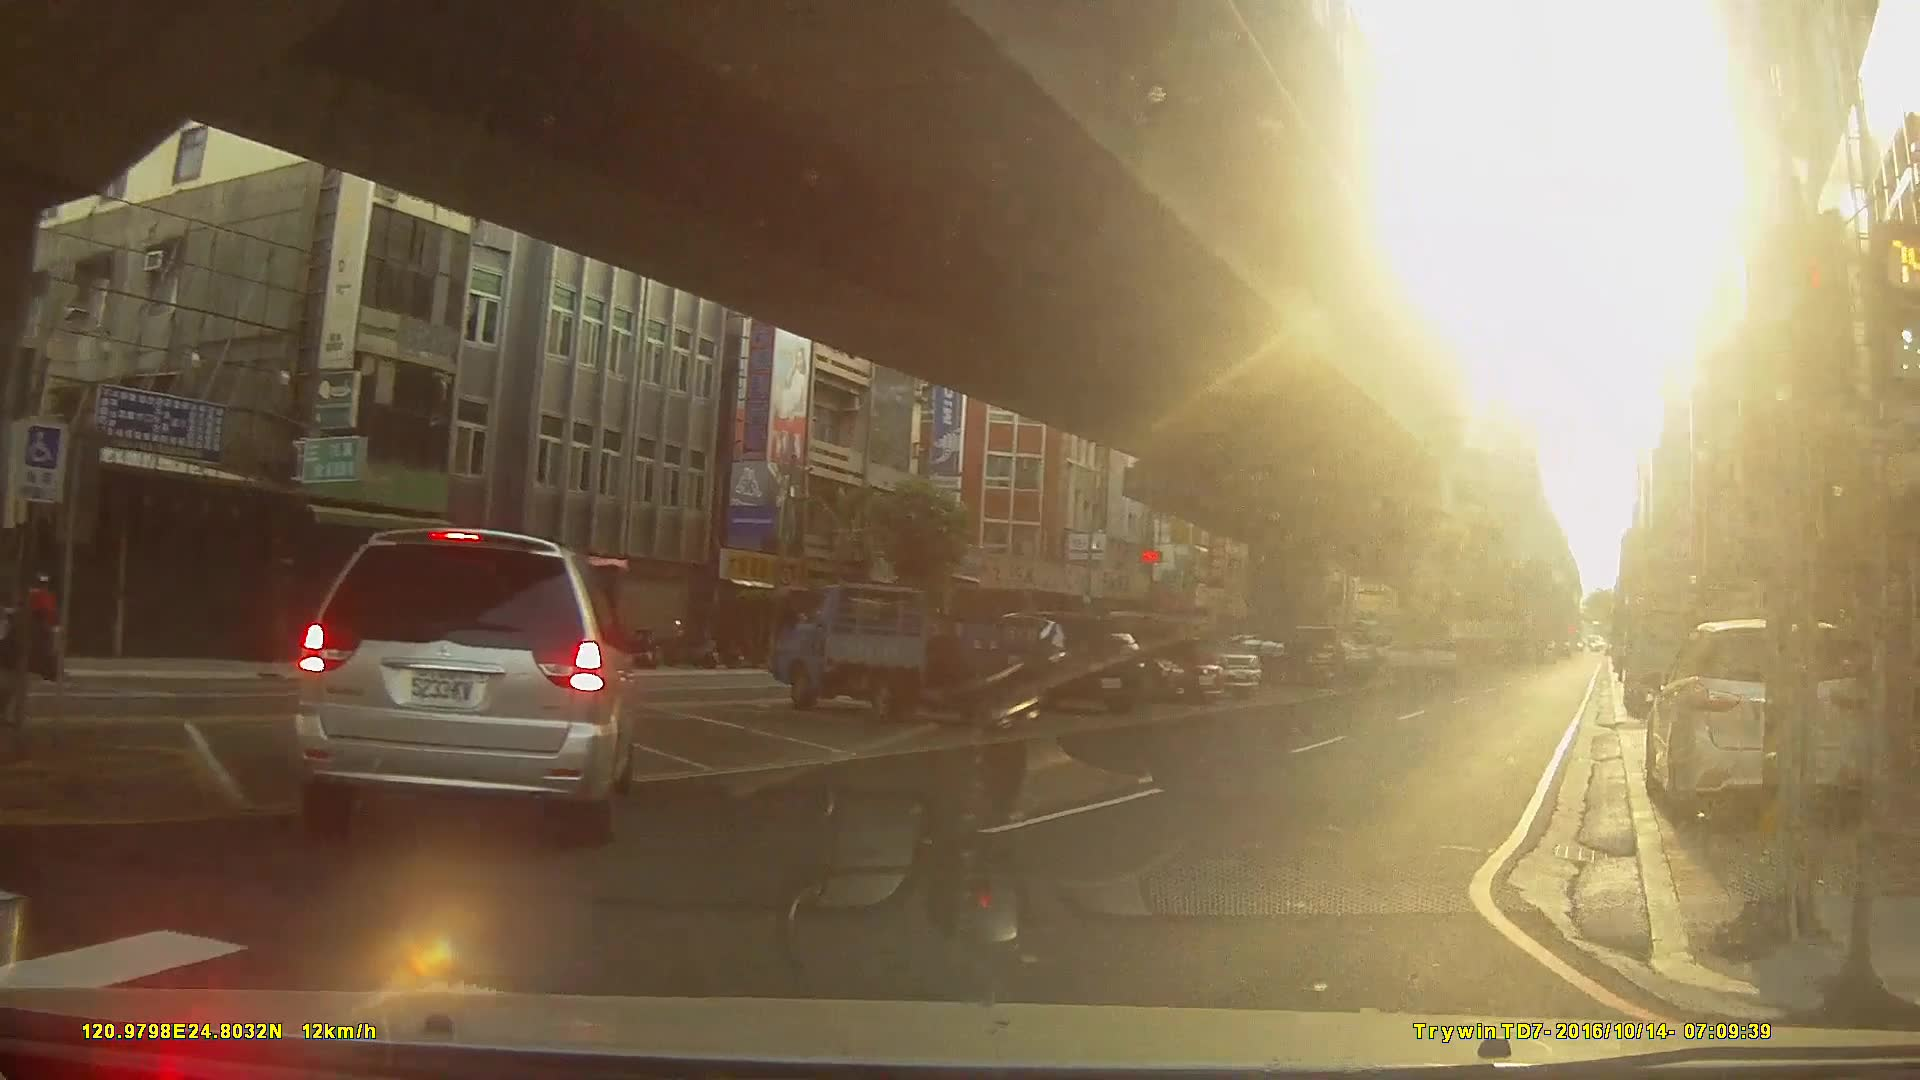rider: (18, 573, 78, 688)
vehicle: (288, 526, 633, 842), (1641, 618, 1875, 830), (768, 583, 1028, 727), (962, 613, 1145, 718), (1059, 622, 1226, 707), (1195, 631, 1316, 686)
